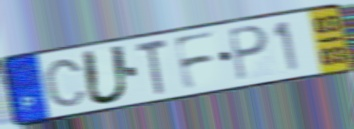1: (271, 19, 300, 74)
C: (43, 57, 89, 109)
F: (171, 29, 217, 93)
P: (226, 24, 271, 84)
T: (134, 37, 170, 98)
U: (79, 43, 132, 108)
